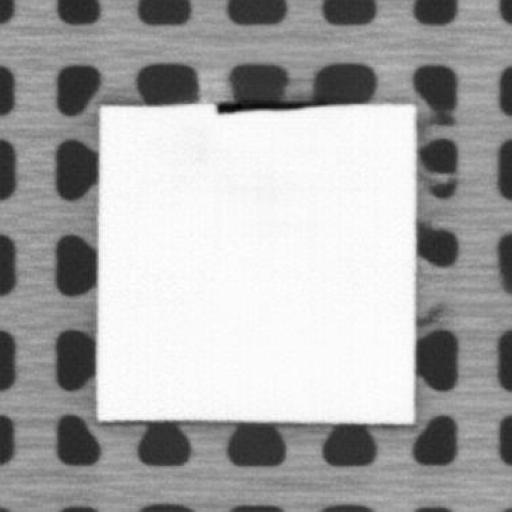DIE_BROKEN: (212, 98, 326, 114)
